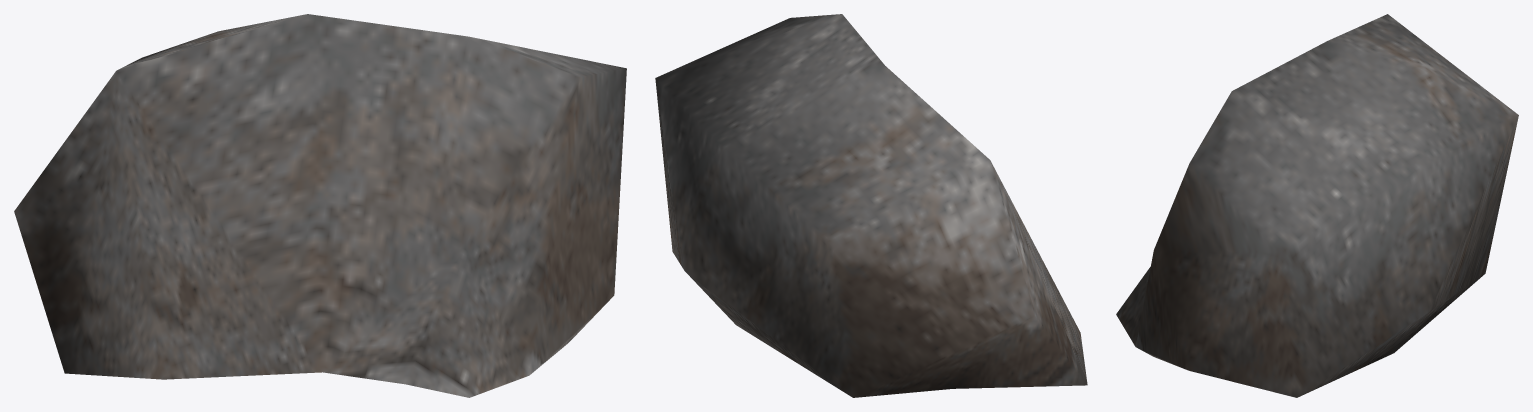
Rendered from forest_rock_4.glb.
3 renders of one model, left to right at view 1: azimuth 30°, elevation 25°; view 2: azimuth 150°, elevation 25°; view 3: azimuth 270°, elevation 25°, orthographic. The views are drawn at different scales.
Visible parts, largest first — view 1: Rocks.004_Rocks_0; view 2: Rocks.004_Rocks_0; view 3: Rocks.004_Rocks_0.
Part boxes in pixels (x1,y1,x2,y2): Rocks.004_Rocks_0: [14, 14, 626, 397]; Rocks.004_Rocks_0: [655, 14, 1087, 397]; Rocks.004_Rocks_0: [1116, 14, 1518, 397].
Size of the model in its own units: 2.05 by 1.13 by 1.59.
Materials: 1 (1 with a texture image).
